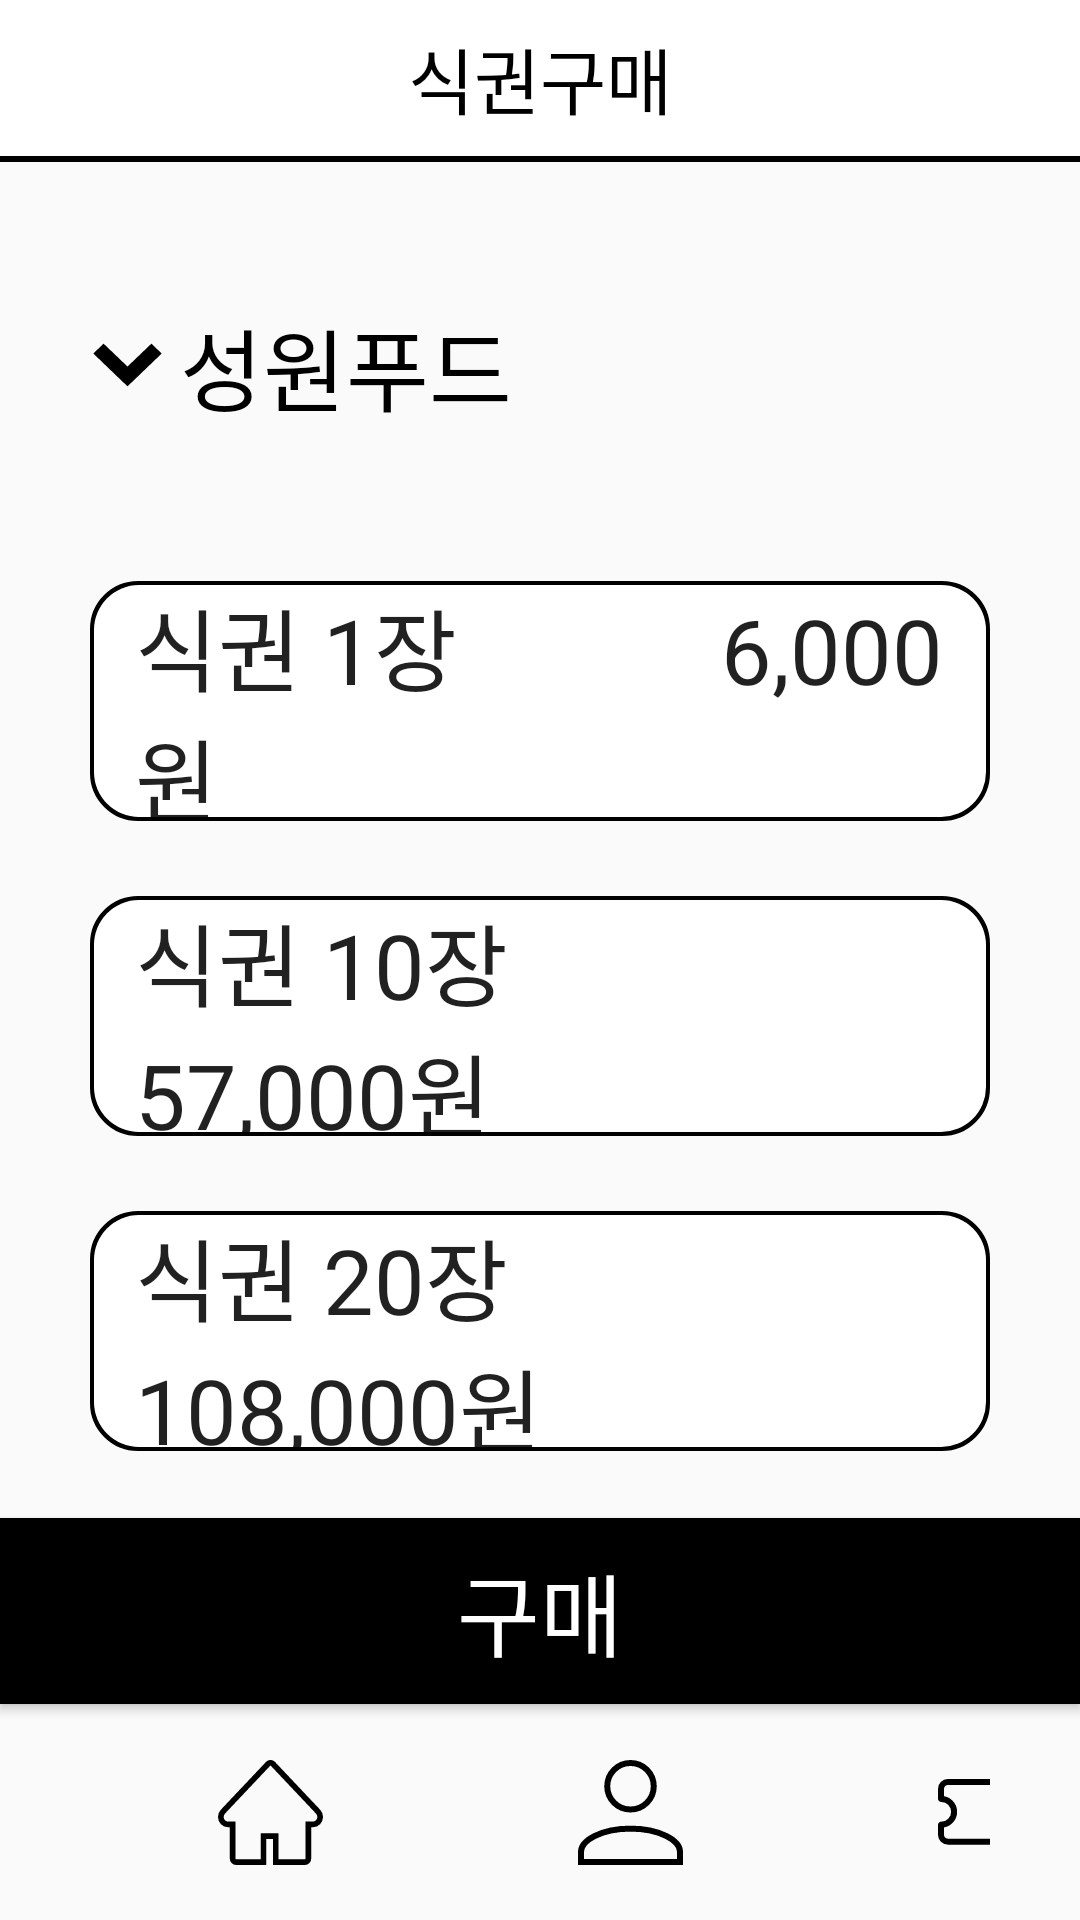

Named icons in this screenshot (1080*1920) and their centers, (x,y):
arrow un: (127,365)
